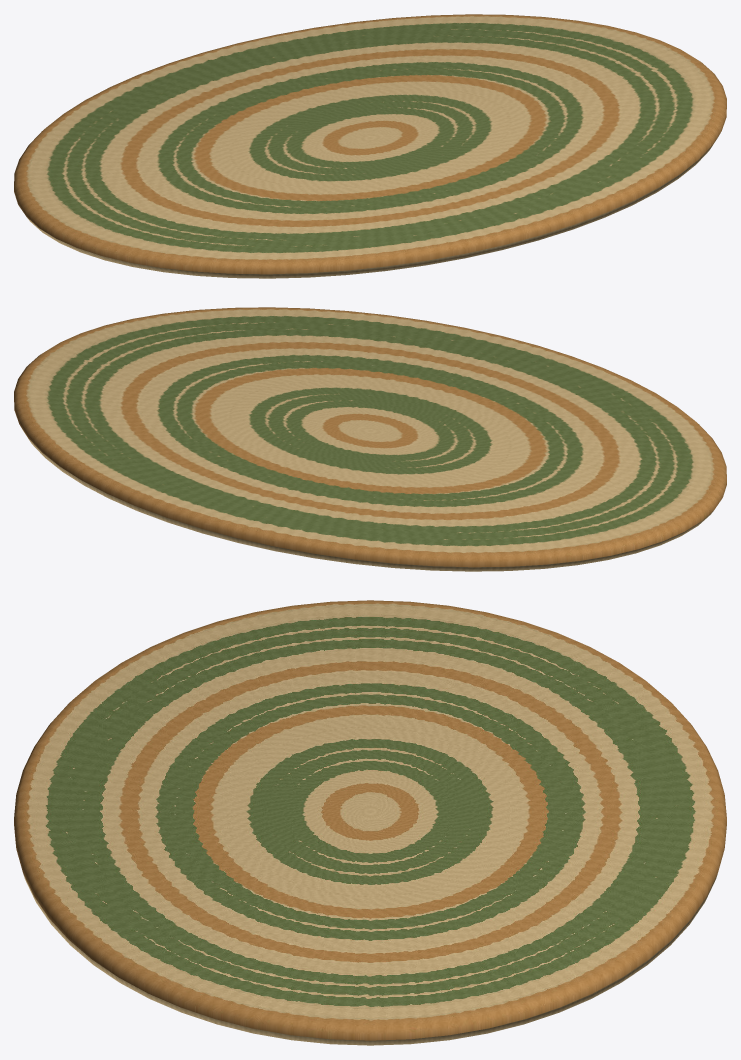
The model's file is VerandaFlax.glb.
3 renders of one model, top to bottom at view 1: azimuth 30°, elevation 25°; view 2: azimuth 150°, elevation 25°; view 3: azimuth 270°, elevation 25°, orthographic. The views are drawn at different scales.
Parts seen in each view (by area): view 1: rug; view 2: rug; view 3: rug.
Part boxes in pixels (x1,y1,x2,y2): rug: [14, 14, 726, 278]; rug: [14, 307, 726, 571]; rug: [14, 600, 726, 1045].
Bounding box in the file's own units: 1.27 × 0.0273 × 0.884.
Materials: 2 (2 with a texture image).
